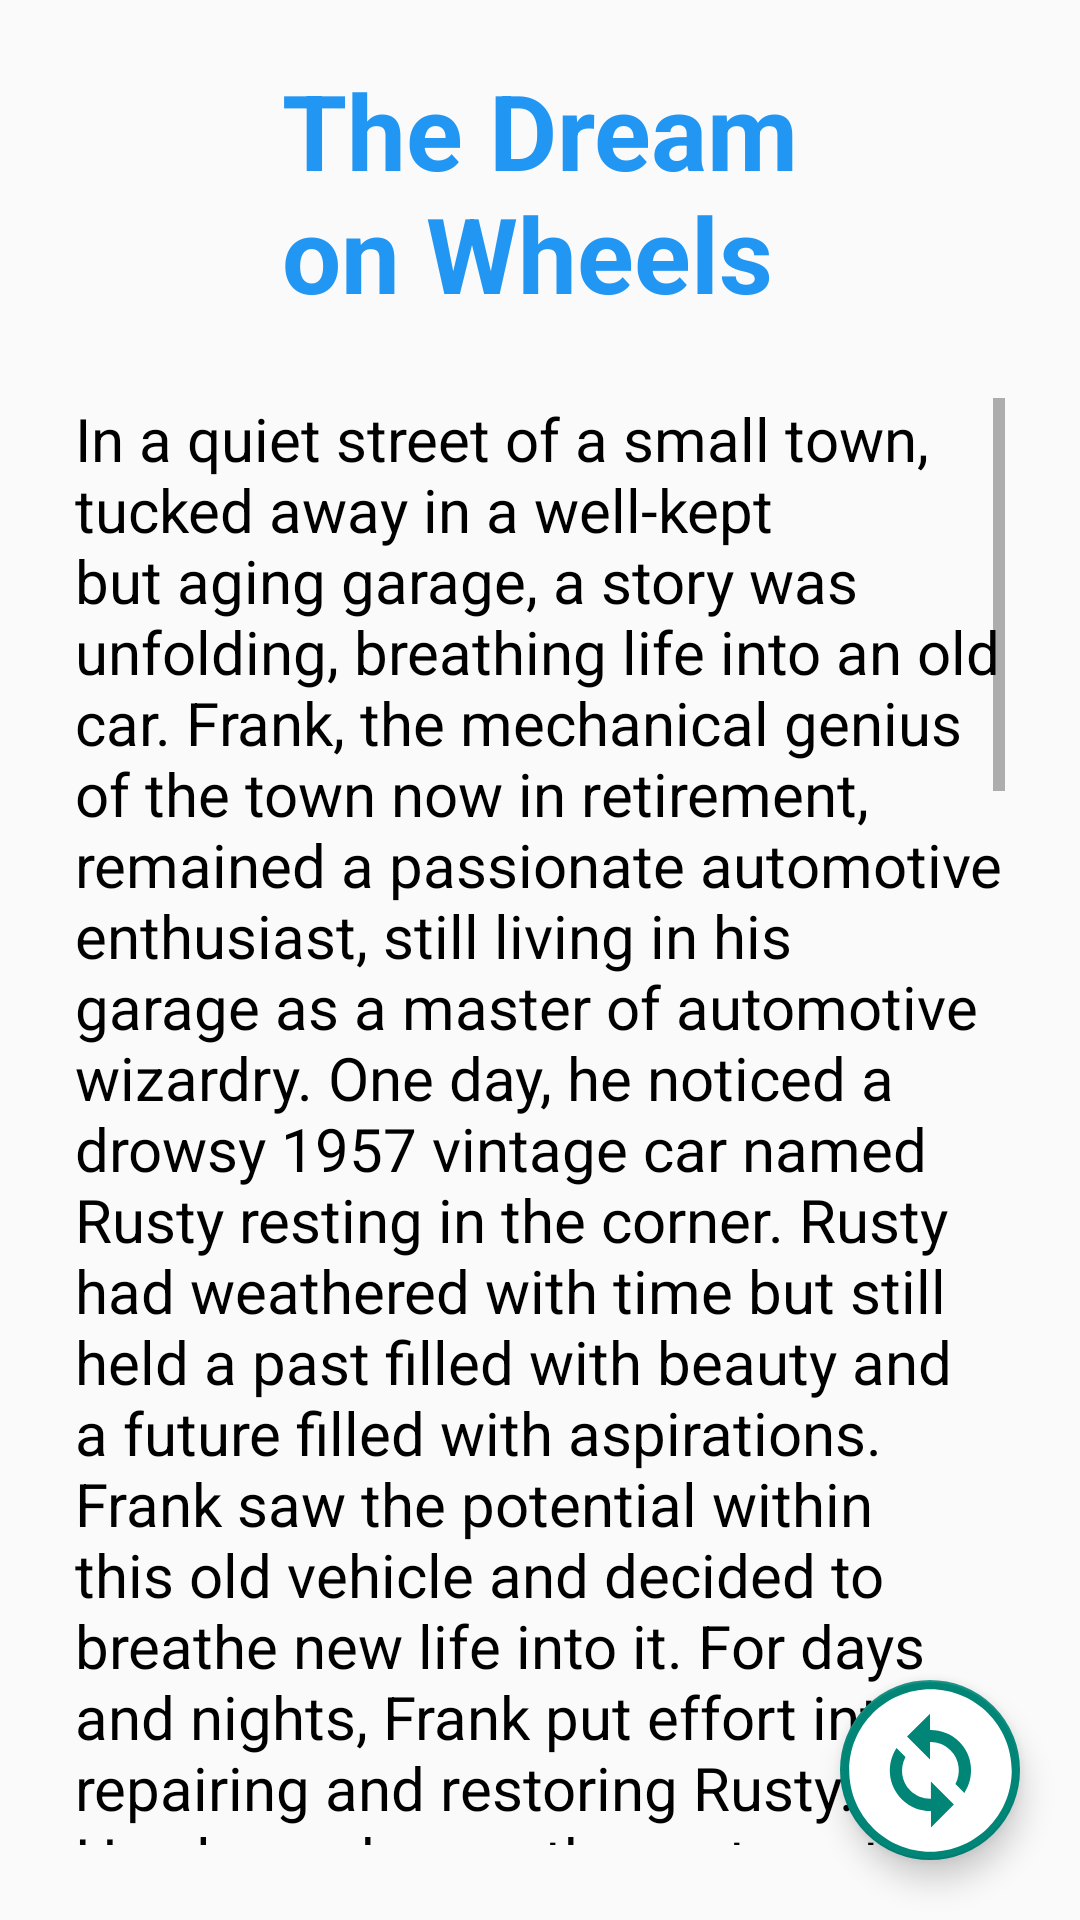

Named icons in this screenshot (1080 x 1920) and their bounding boxes, (x1, y1, x2, y2):
change circle: (840, 1680, 1020, 1860)
